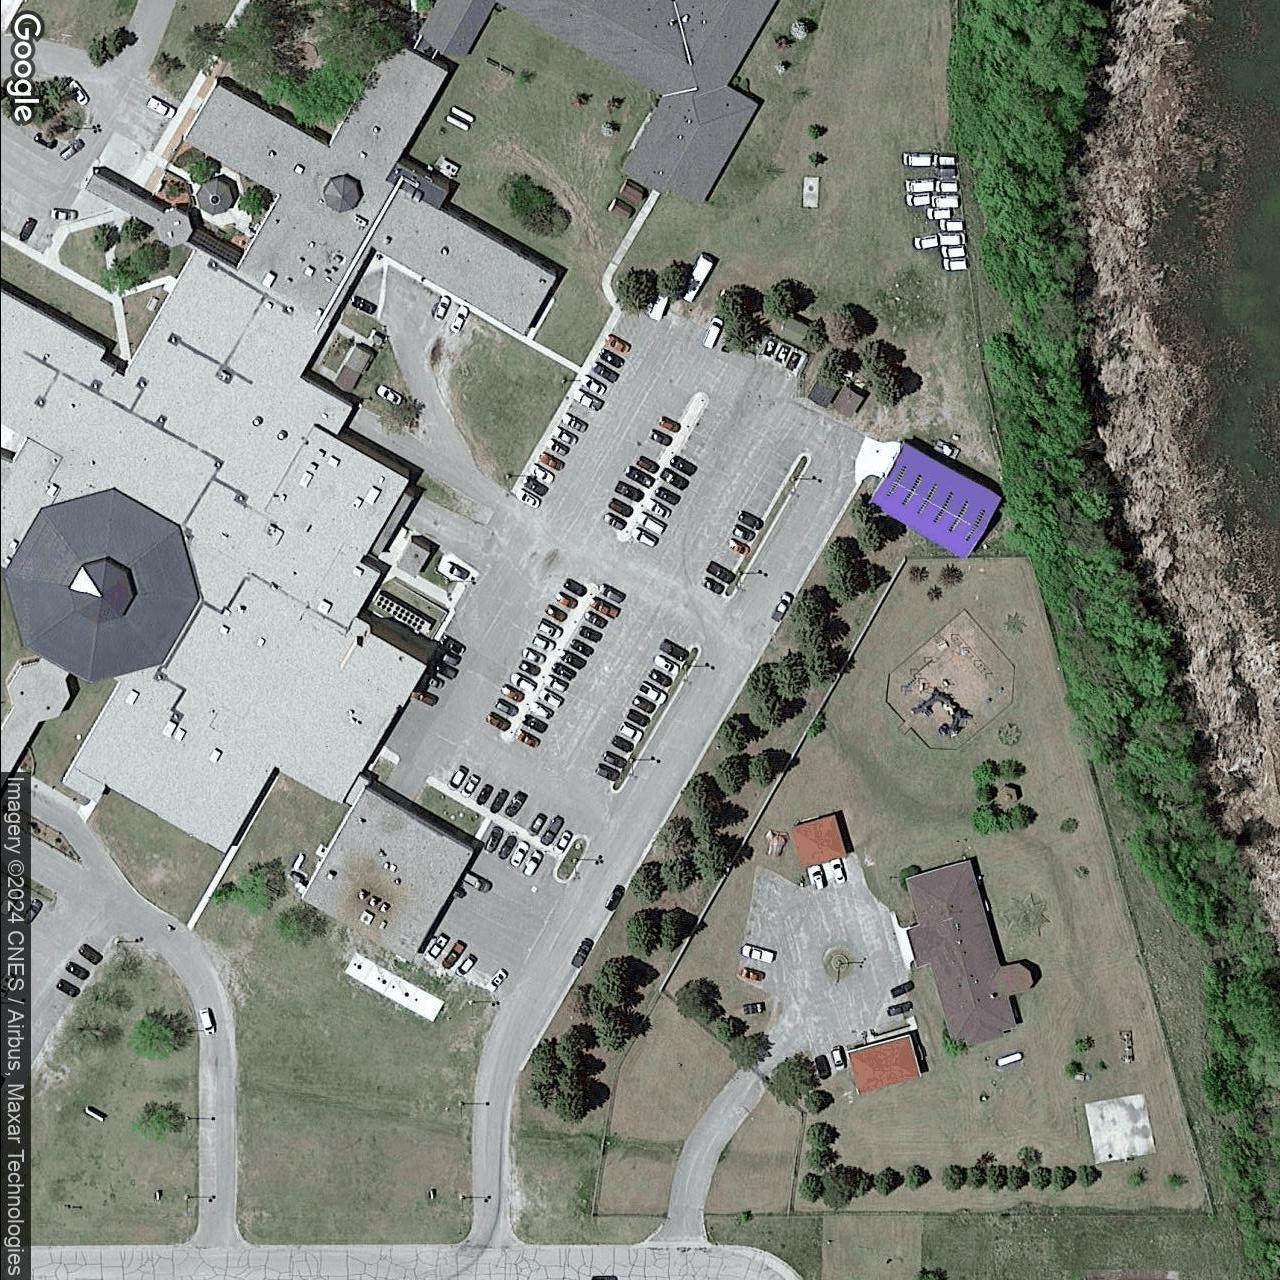Garage: (866, 440, 1003, 560), (844, 1035, 921, 1095), (790, 813, 846, 869)
House: (901, 857, 1032, 1049)
Other: (1, 42, 557, 962), (416, 0, 778, 203)
Propane: (447, 102, 478, 125), (441, 111, 472, 134), (993, 1050, 1024, 1069), (288, 852, 306, 872)
